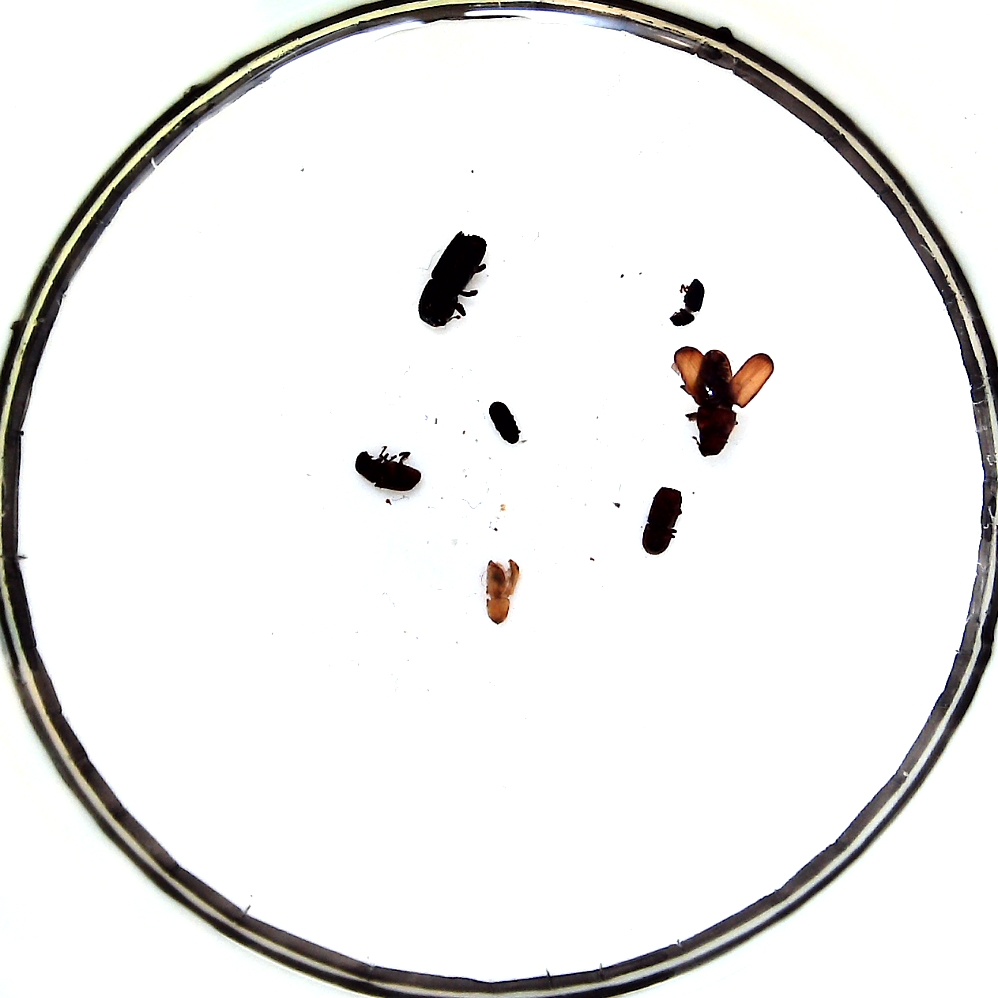Boerner: (418, 231, 488, 326)
Leconte: (694, 350, 737, 457)
acuminatus: (669, 277, 705, 326), (489, 401, 520, 443)
armandi: (355, 450, 422, 491)
coleoptera: (486, 559, 520, 623)
linnaeus: (641, 486, 683, 555)
